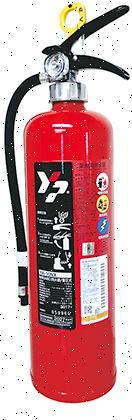Fire Extinguisher: (4, 2, 132, 411)
